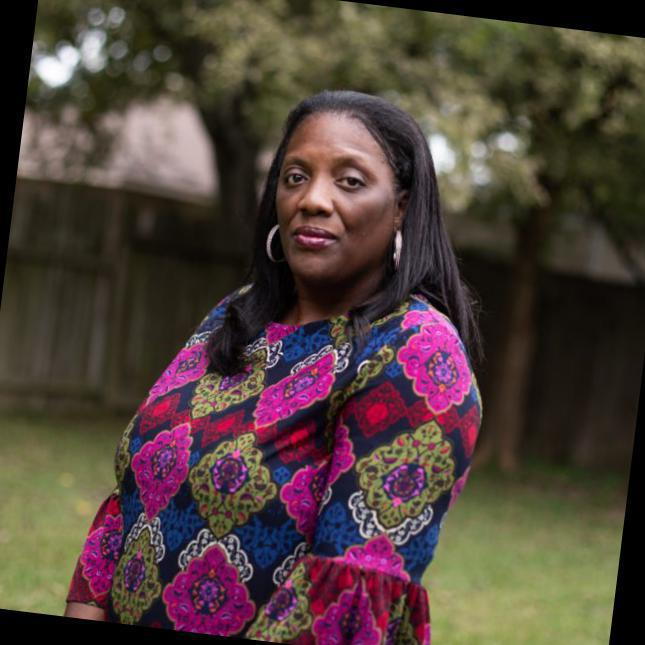Sober: (279, 122, 400, 275)
